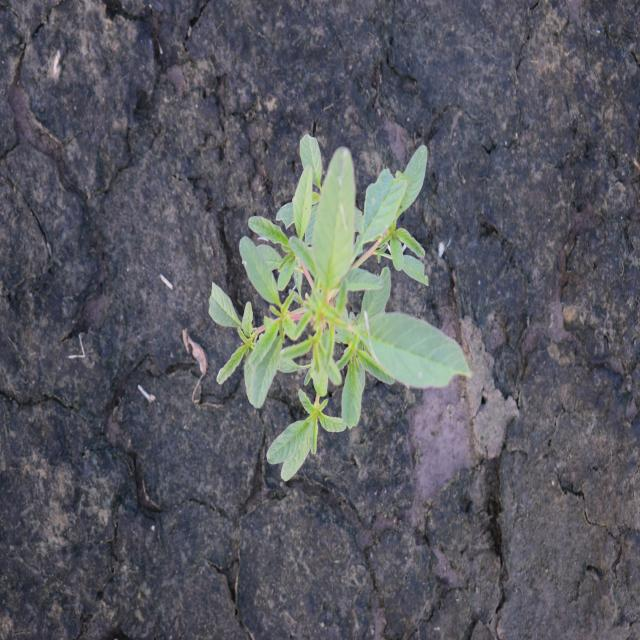Waterhemp: (206, 130, 476, 485)
